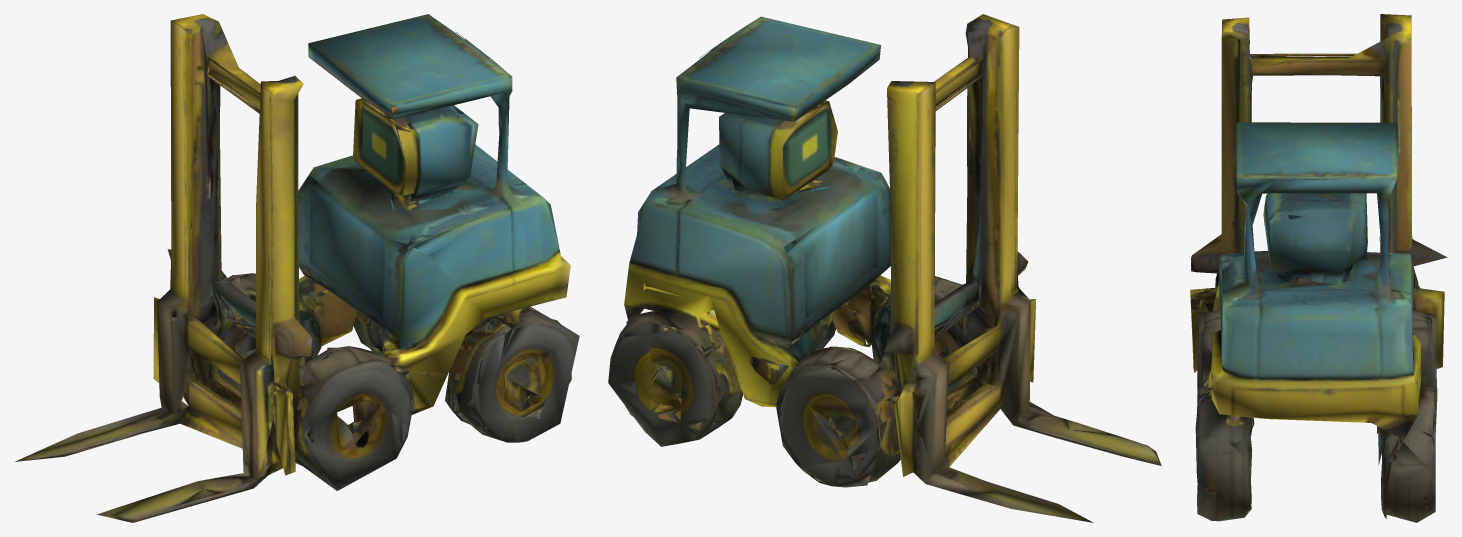
Rendered from Forklift_Bot_0408235816_texture.glb.
The picture shows the model from 3 angles, left to right: view 1: azimuth 30°, elevation 25°; view 2: azimuth 150°, elevation 25°; view 3: azimuth 270°, elevation 25°; orthographic projection. The views are drawn at different scales.
Parts seen in each view (by area): view 1: Mesh1; view 2: Mesh1; view 3: Mesh1.
Boxes of the visible parts, box(x1,y1,x2,y2) form: Mesh1: box(15, 14, 579, 522); Mesh1: box(608, 14, 1161, 522); Mesh1: box(1190, 14, 1447, 522).
Bounding box in the file's own units: 2.01 × 1.67 × 1.01.
Materials: 1 (1 with a texture image).
